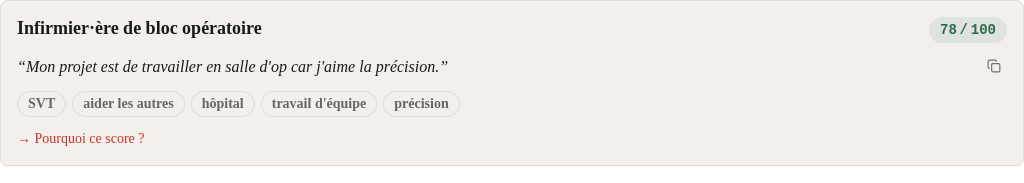
Test case: AC5 — tap-to-copy › affiche le message d'erreur si clipboard et fallback échouent
The width and height of the screenshot is (1024, 183).
Click the button named "copier la phrase".
click(994, 66)  # box [981, 55, 1007, 77]
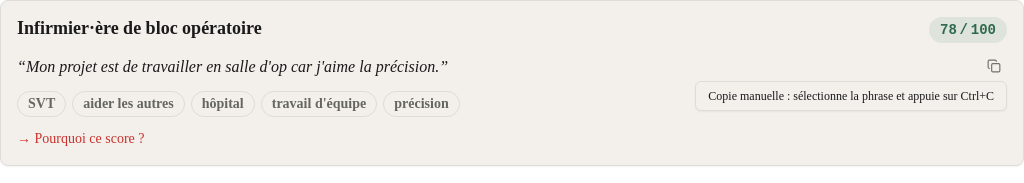
Expected: the message shows "Ctrl+C", [708, 89, 994, 103]
